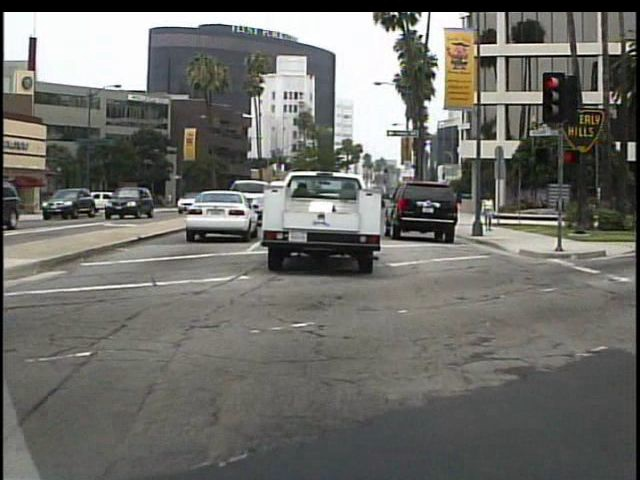person: (480, 188, 498, 237)
